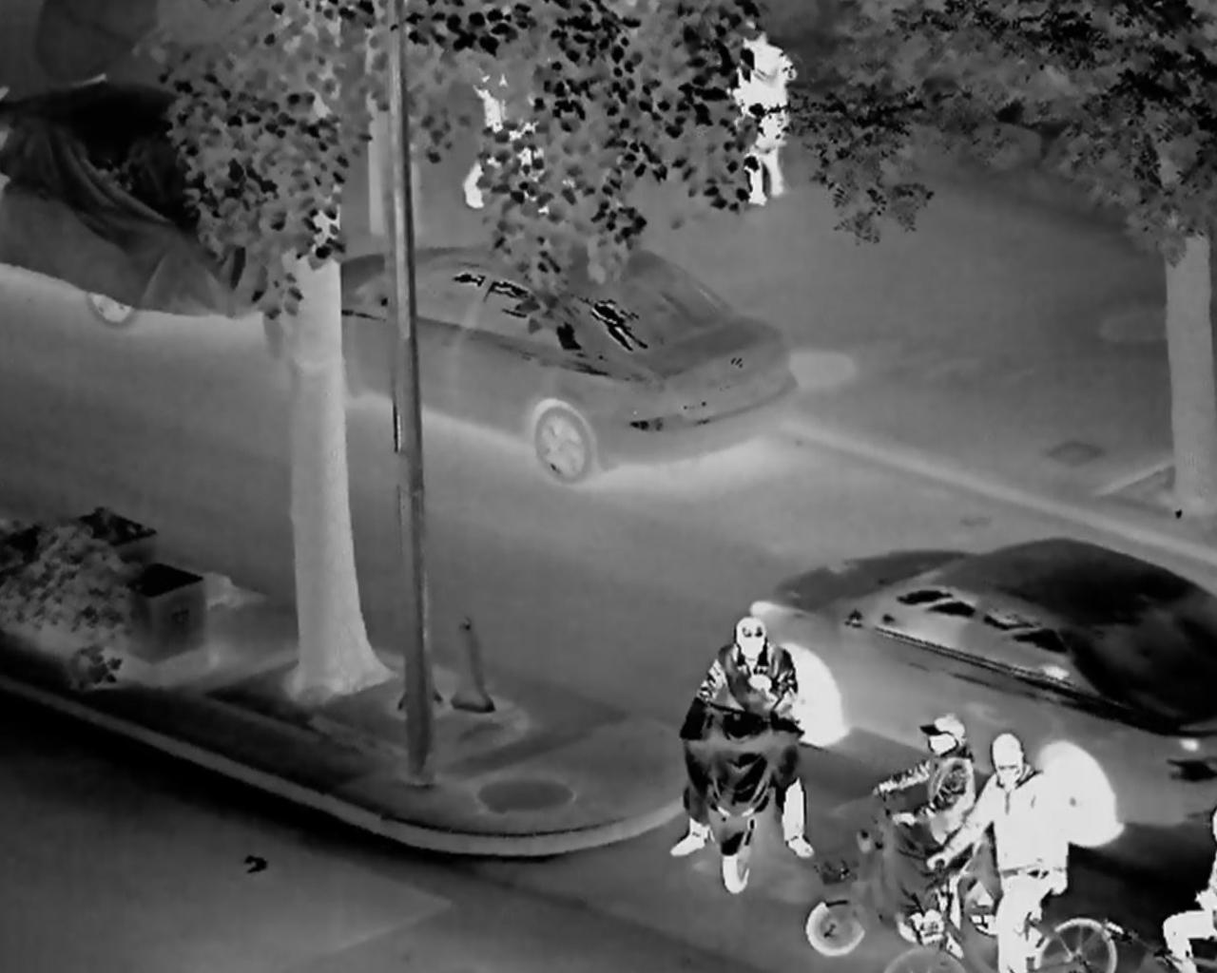person: (668, 578, 821, 887), (932, 705, 1075, 973), (881, 689, 978, 962), (718, 31, 811, 239), (450, 40, 552, 214), (1159, 799, 1217, 973)
